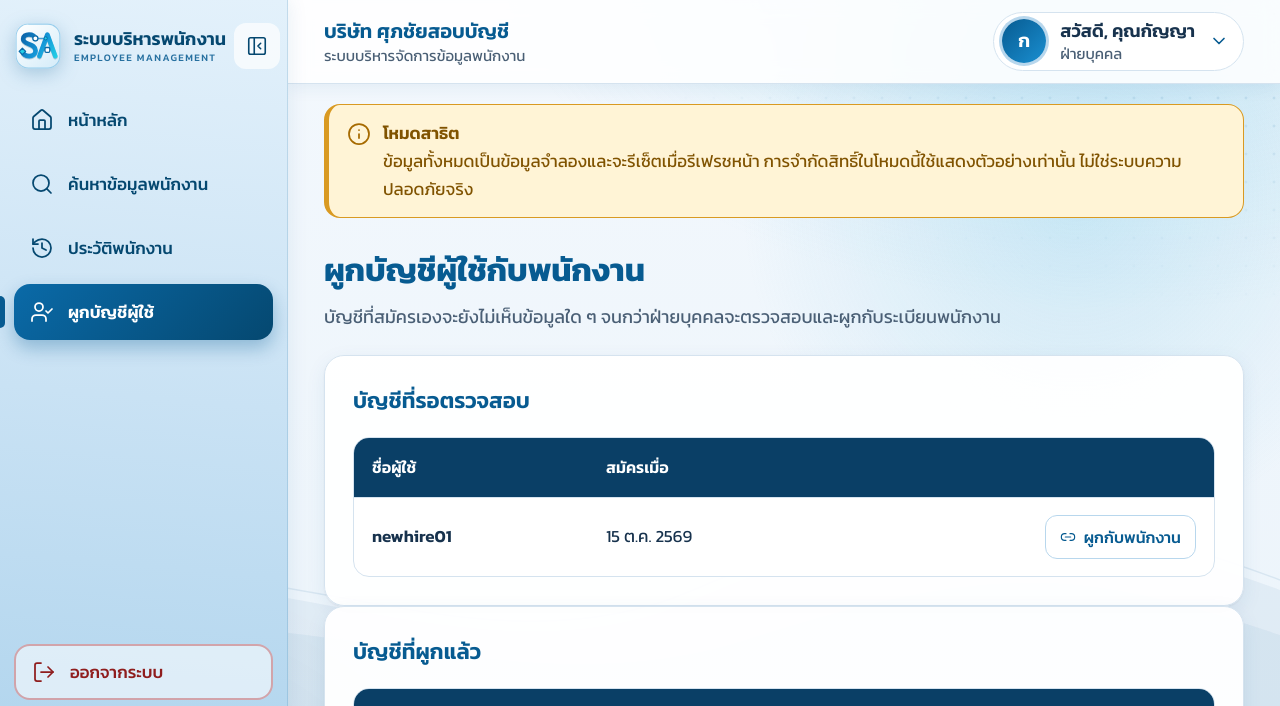
account linking (HR only) › links a pending account after the employee code is re-typed
Expected: the heading "ผูกบัญชีผู้ใช้กับพนักงาน" is shown, [324,246,645,294]
Expected: the text "newhire01" is shown, [354,497,588,576]
Click the button "ผูกกับพนักงาน". click: (1120, 537)
box: [1045,515,1196,559]
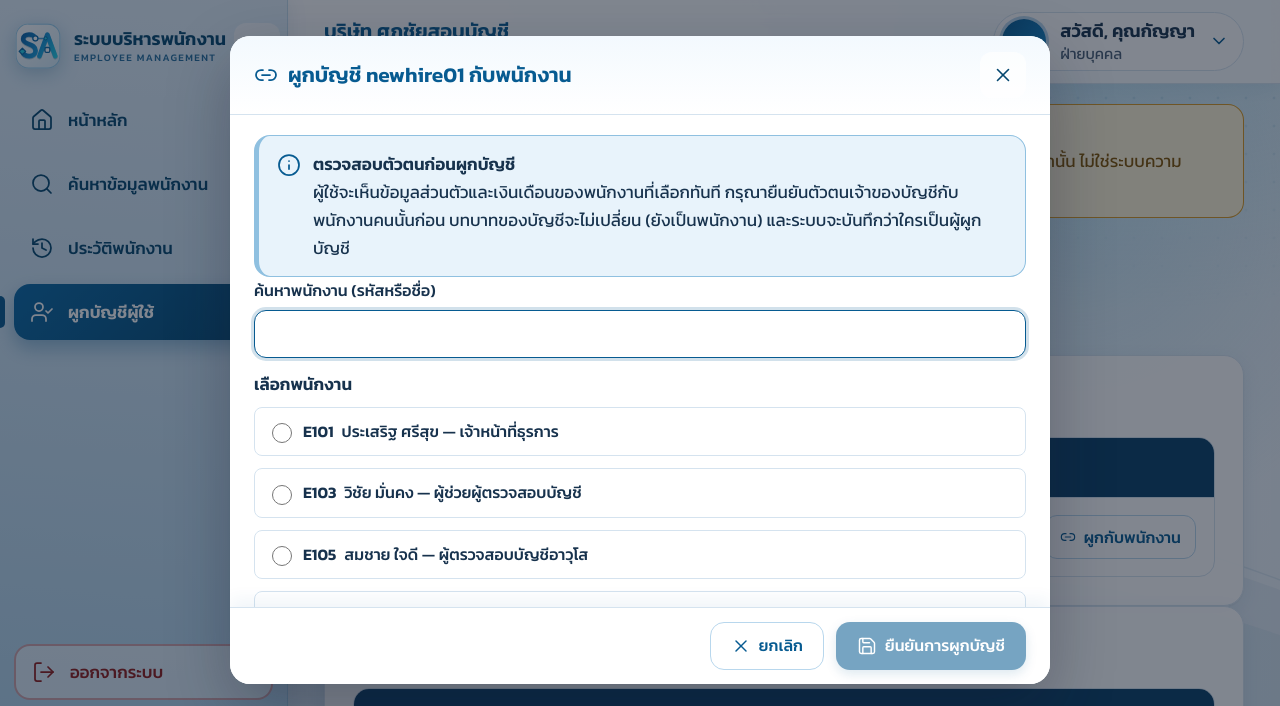
Now the text "E105" is shown, box [303,541,336,568]
Click the radio button labelled "E105 สมชาย ใจดี — ผู้ตรวจสอบบัญชีอาวุโส". click: (282, 556)
box: [272,546,292,566]
(page scrolled)
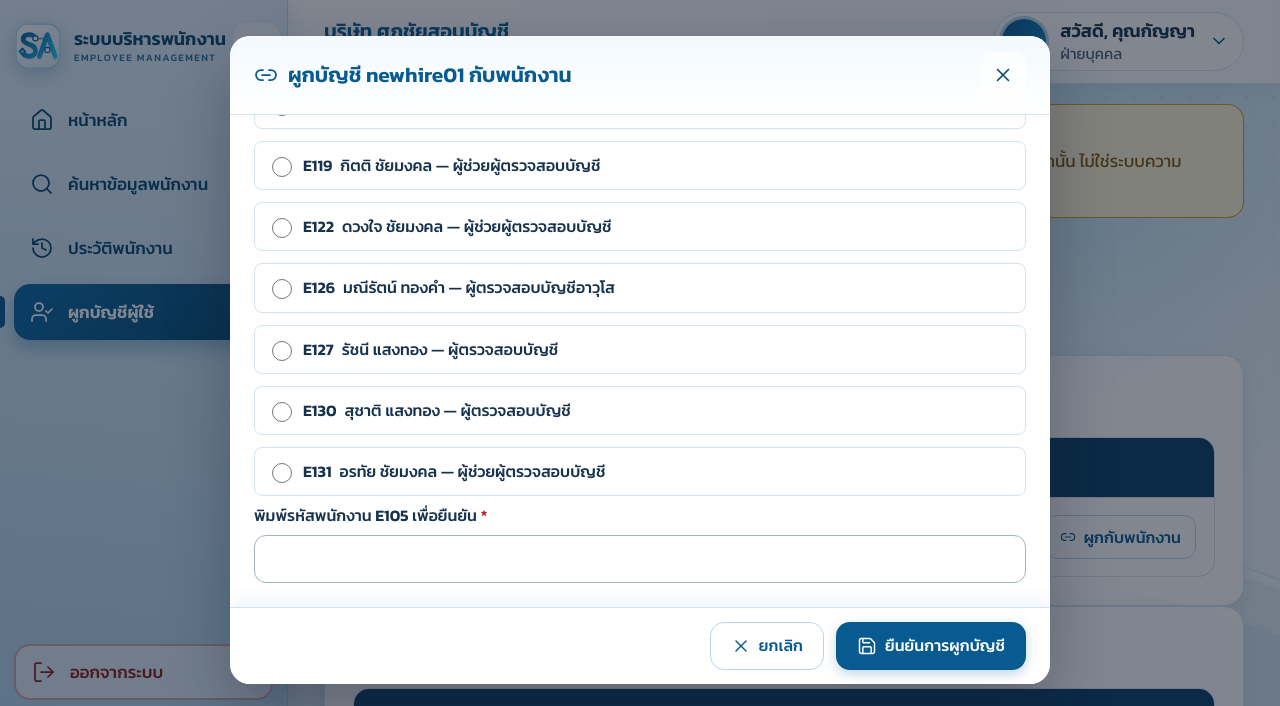
Type "E101" into the field labelled "พิมพ์รหัสพนักงาน E105 เพื่อยืนยัน *". click: (640, 559)
box: [254,535,1026,583]
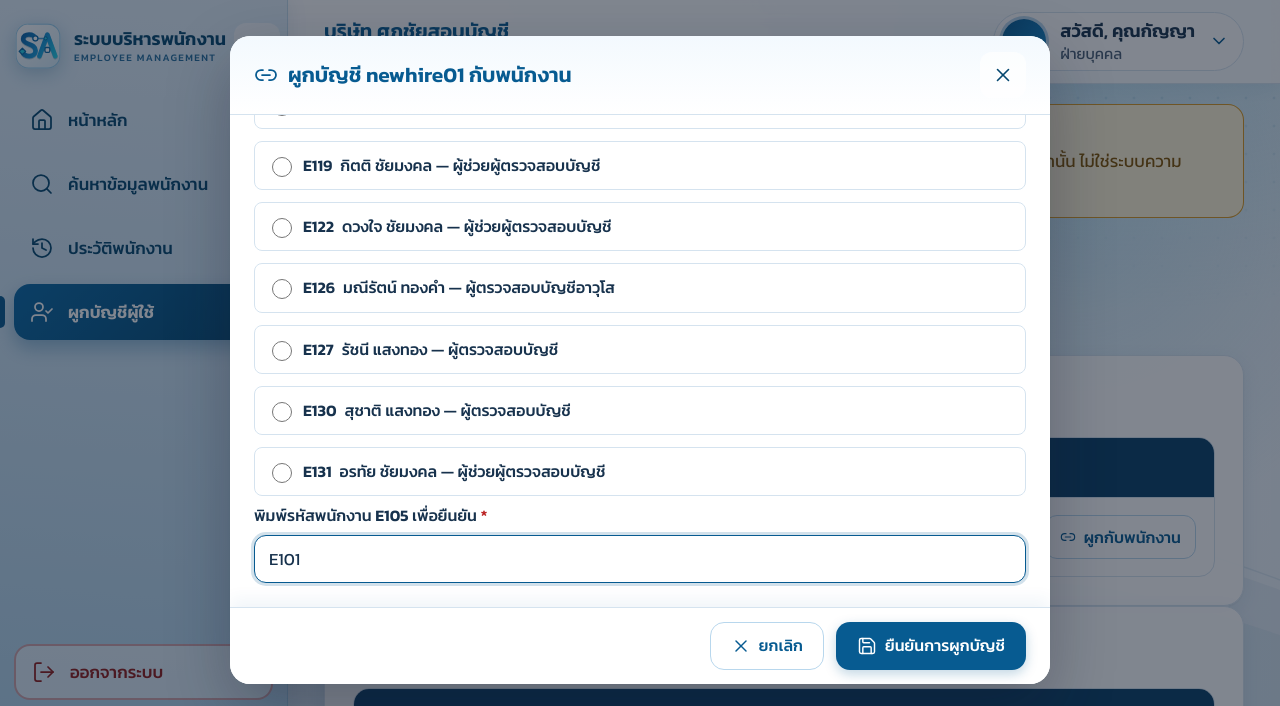
Click the button "ยืนยันการผูกบัญชี". click: (931, 646)
box: [836,622,1026,670]
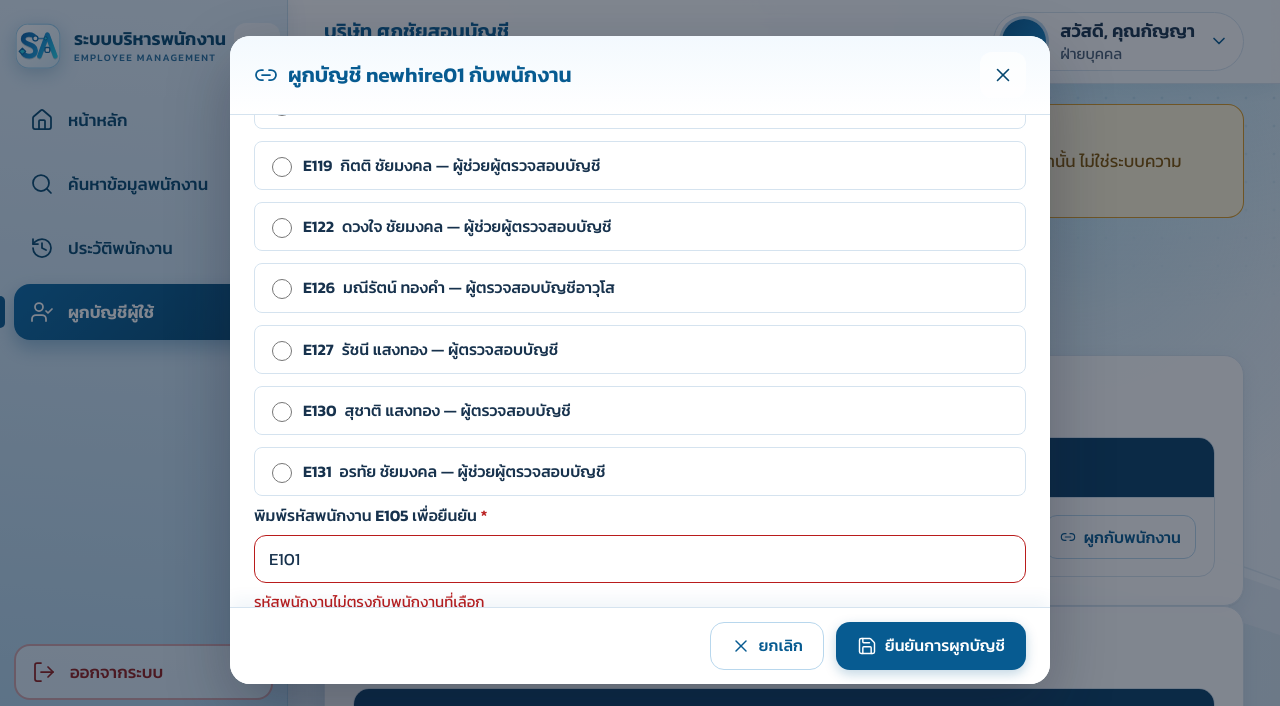
Now the text "รหัสพนักงานไม่ตรงกับพนักงานที่เลือก" is shown, box [254,590,485,607]
Replace the text in the field labelled "พิมพ์รหัสพนักงาน E105 เพื่อยืนยัน *" with "e105". click: (640, 559)
box: [254,535,1026,583]
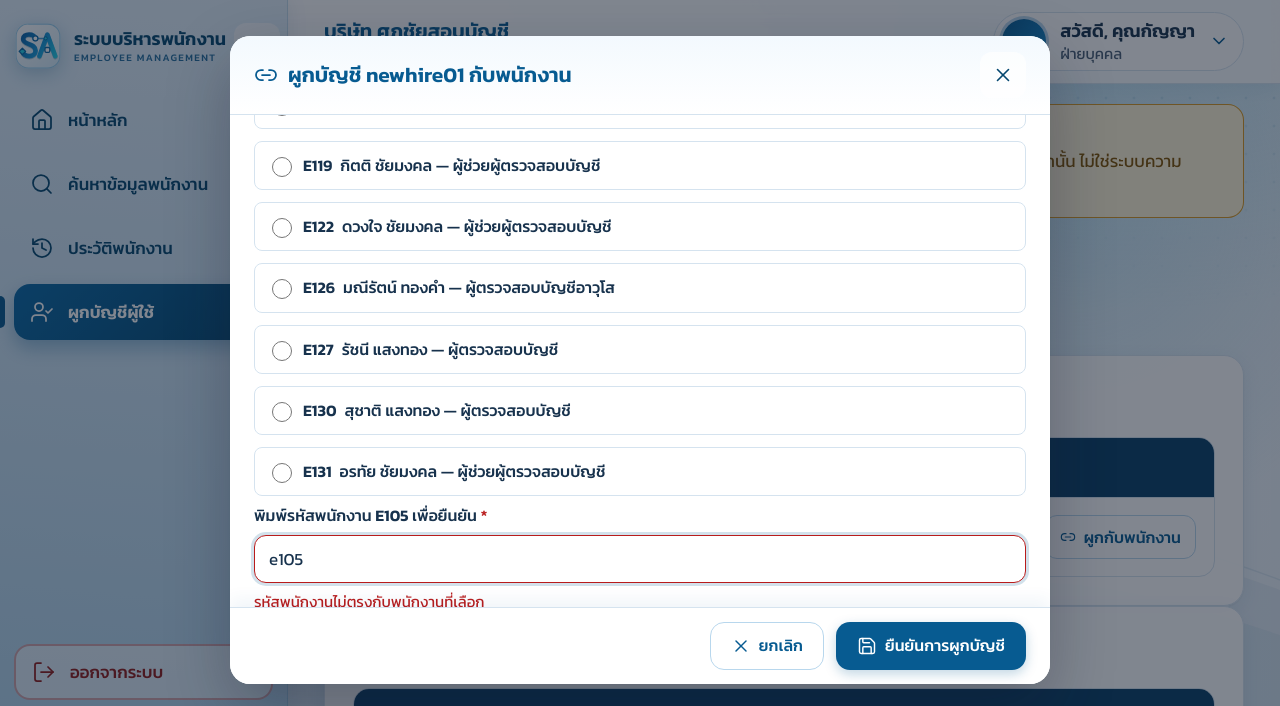
Click the button "ยืนยันการผูกบัญชี". click: (931, 646)
box: [836,622,1026,670]
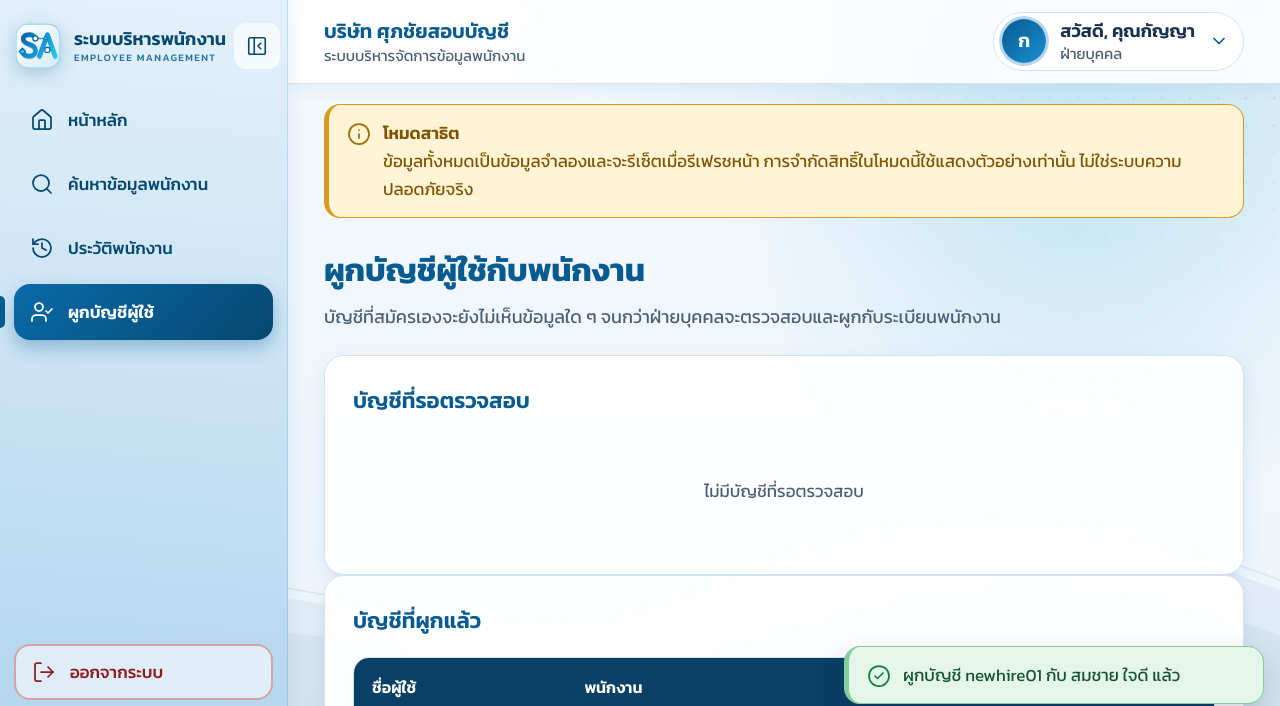
Now the text "ไม่มีบัญชีที่รอตรวจสอบ" is shown, box [704,478,864,504]
